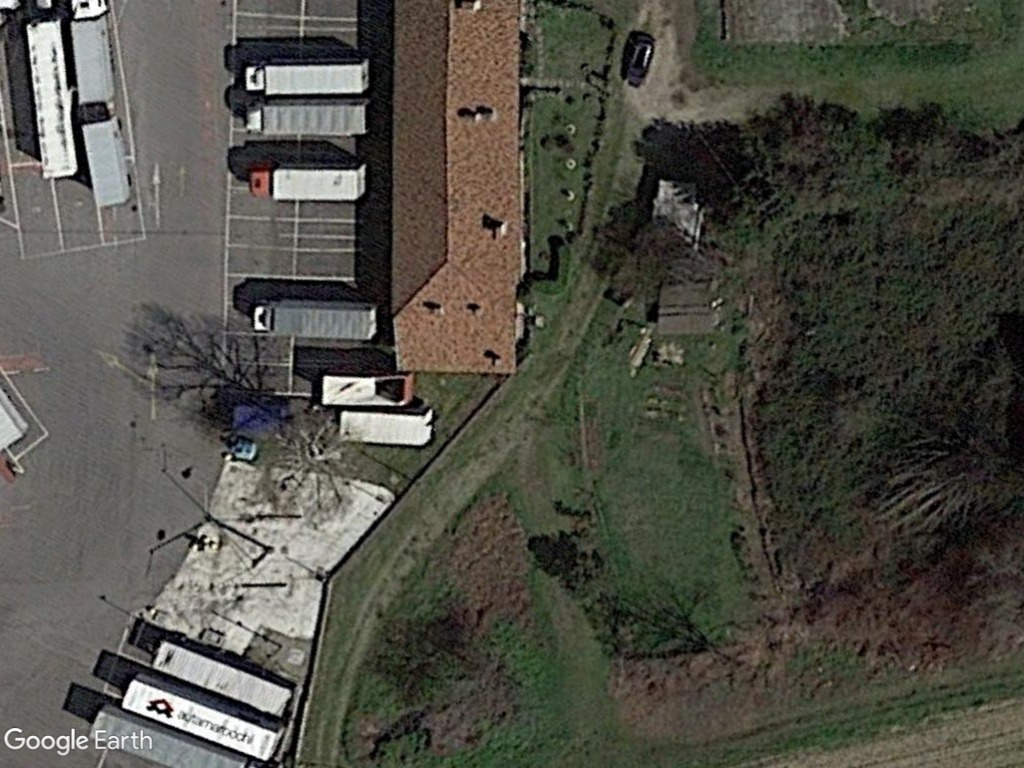longvehicle: (112, 668, 289, 764), (143, 632, 300, 722), (22, 14, 80, 181), (74, 104, 137, 212), (332, 408, 440, 449), (319, 369, 418, 411)
truck: (243, 154, 373, 208), (248, 294, 383, 343), (239, 54, 374, 99), (239, 100, 371, 135)
